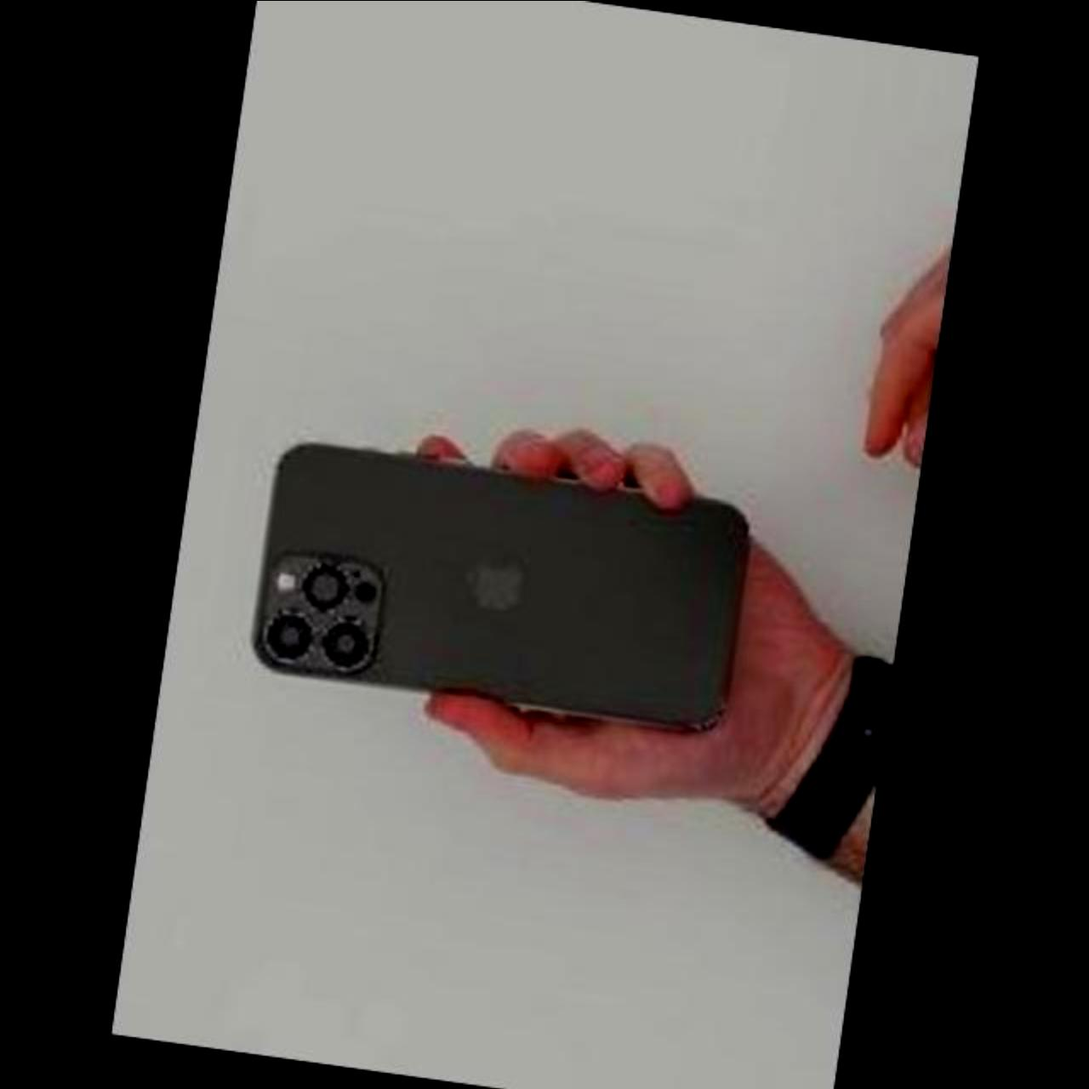phone: (248, 438, 754, 731)
